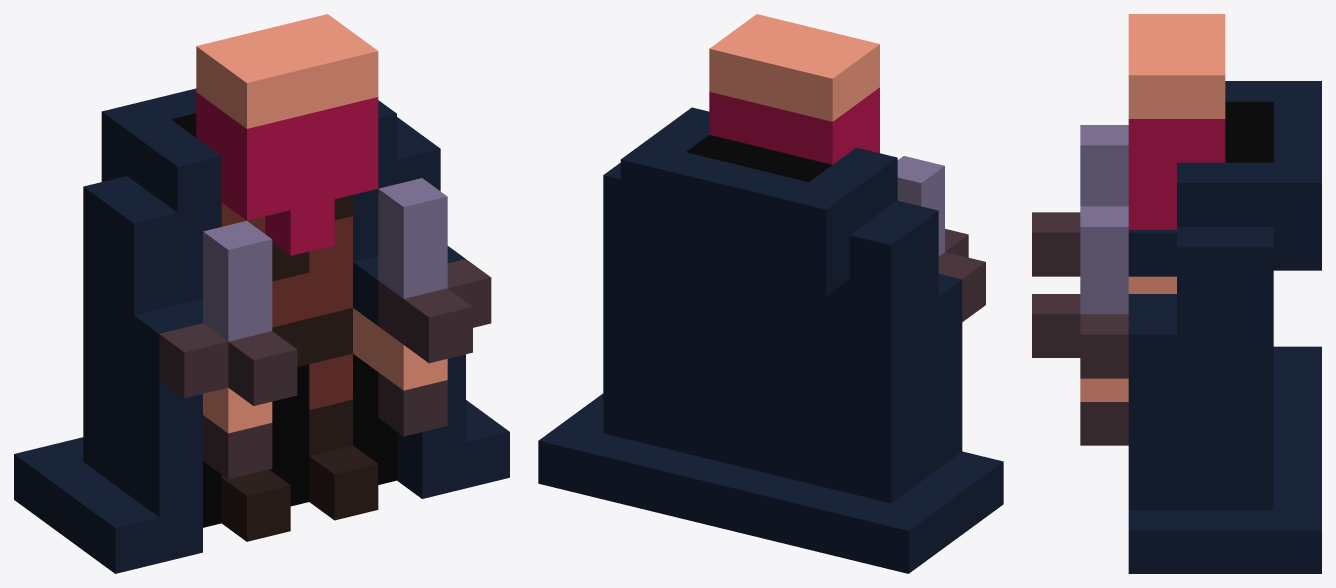
File: rogue_idle_1.obj
3 views of the same model, side by side, from view 1: azimuth 30°, elevation 25°; view 2: azimuth 150°, elevation 25°; view 3: azimuth 270°, elevation 25° (orthographic). The views are drawn at different scales.
Size of the model in its own units: 0.9 by 1 by 0.6.
1 material, 1 textured.
